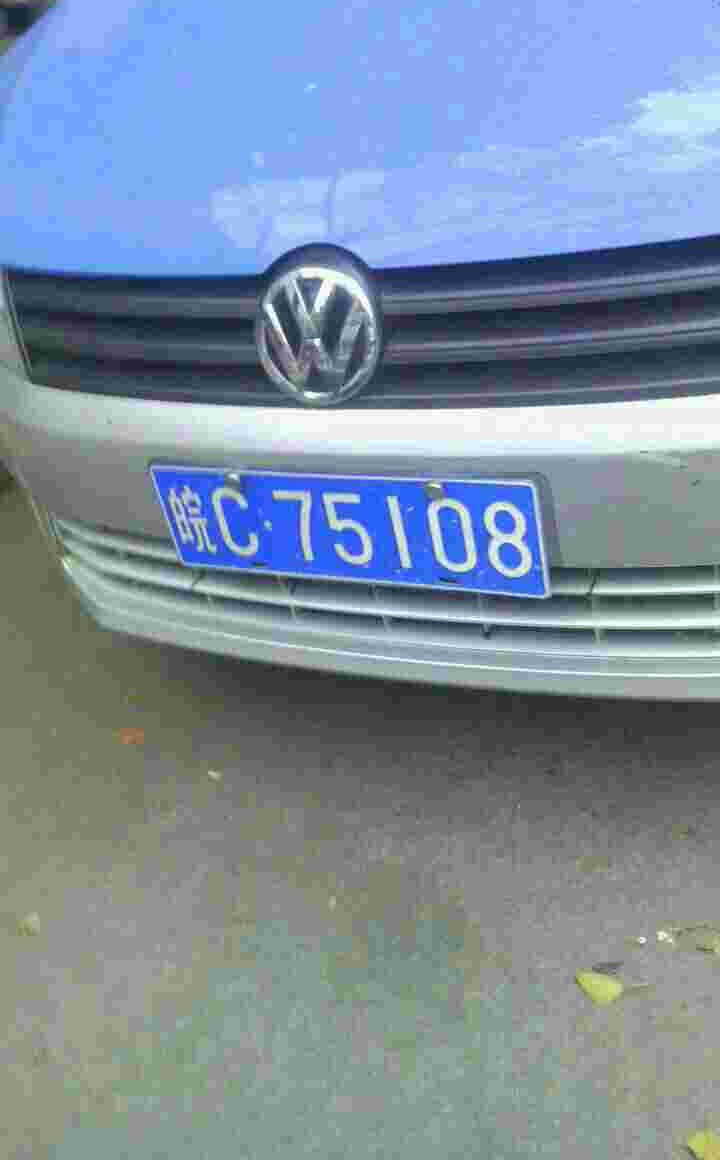license_plate: (153, 467, 547, 599)
